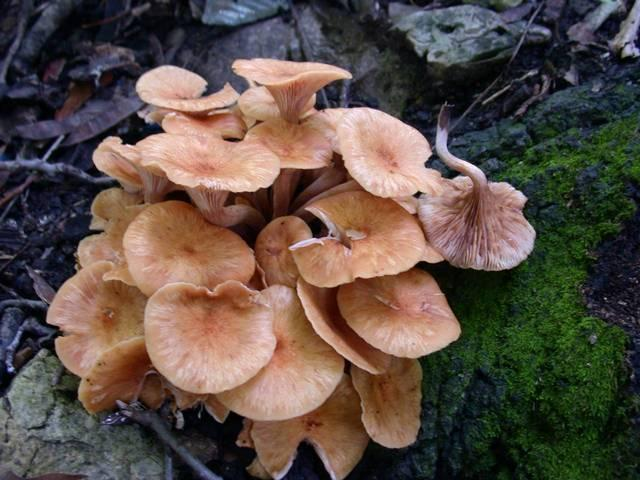Edible Mushroom: (44, 55, 536, 479)
